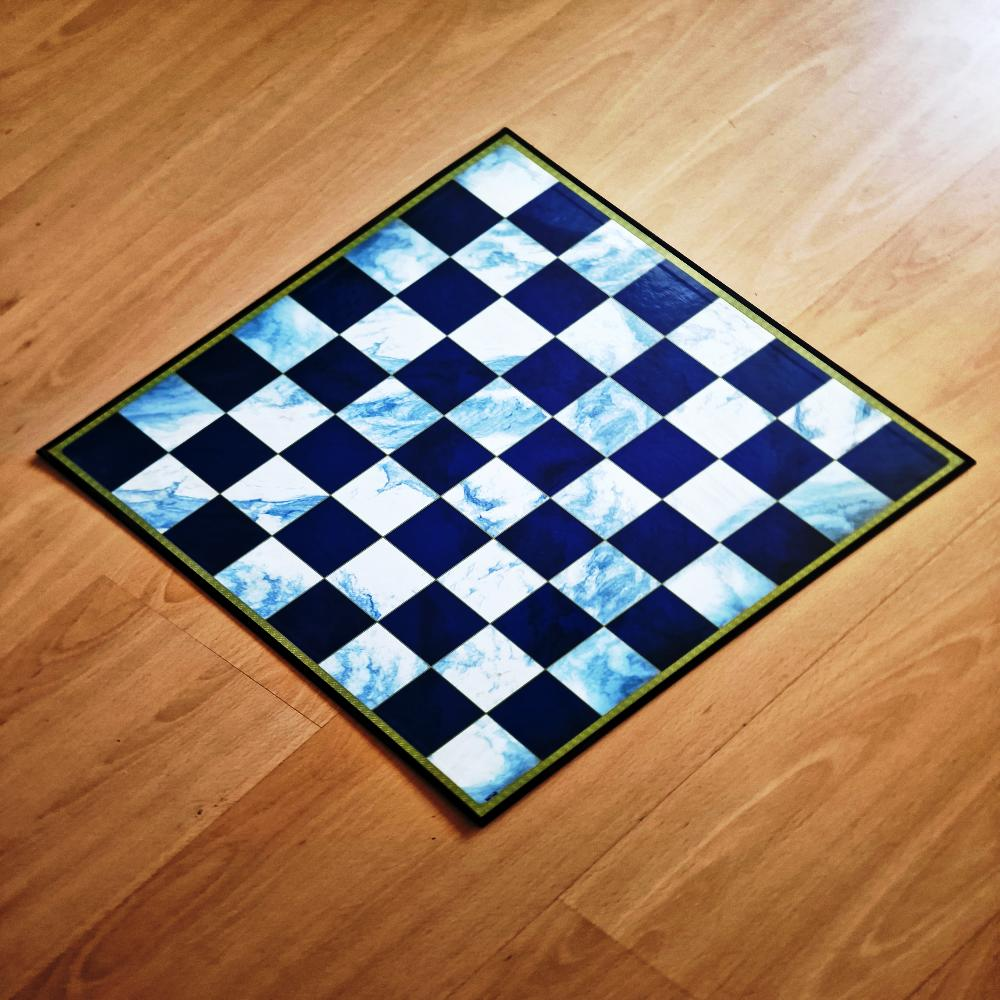chessfield: (425, 717, 554, 822), (542, 629, 665, 724), (778, 461, 903, 552), (431, 626, 553, 718), (211, 535, 327, 627), (660, 545, 782, 632), (489, 674, 604, 765), (444, 134, 560, 222), (314, 629, 429, 717), (662, 460, 779, 546), (606, 587, 722, 673), (435, 540, 550, 626), (664, 381, 780, 466), (374, 671, 486, 759), (837, 422, 957, 504), (326, 538, 440, 624), (721, 505, 835, 591), (545, 543, 660, 628), (491, 584, 604, 670), (783, 384, 899, 467), (112, 376, 226, 460), (379, 582, 491, 667), (605, 504, 718, 588), (263, 585, 376, 669), (553, 381, 667, 464), (330, 457, 442, 541), (226, 377, 338, 460), (547, 464, 659, 547), (230, 297, 344, 378), (341, 218, 454, 299), (113, 458, 223, 541), (444, 463, 555, 545), (57, 414, 169, 495), (335, 379, 444, 462), (664, 300, 777, 380), (445, 381, 555, 463), (225, 461, 334, 543), (556, 299, 666, 380), (610, 421, 720, 501), (723, 424, 833, 503), (274, 504, 382, 584), (723, 342, 831, 422), (343, 302, 453, 380), (496, 504, 603, 584), (390, 418, 495, 499), (560, 223, 665, 304), (281, 417, 387, 497), (387, 502, 493, 582), (452, 302, 560, 380), (170, 415, 276, 494), (612, 341, 718, 420), (454, 221, 561, 299), (176, 336, 281, 414), (285, 338, 389, 416), (394, 340, 499, 417), (504, 259, 609, 336), (398, 183, 503, 260), (397, 259, 502, 336), (164, 504, 270, 580), (503, 340, 606, 418), (499, 424, 604, 500), (291, 264, 394, 341), (613, 261, 715, 337), (507, 186, 610, 260)
